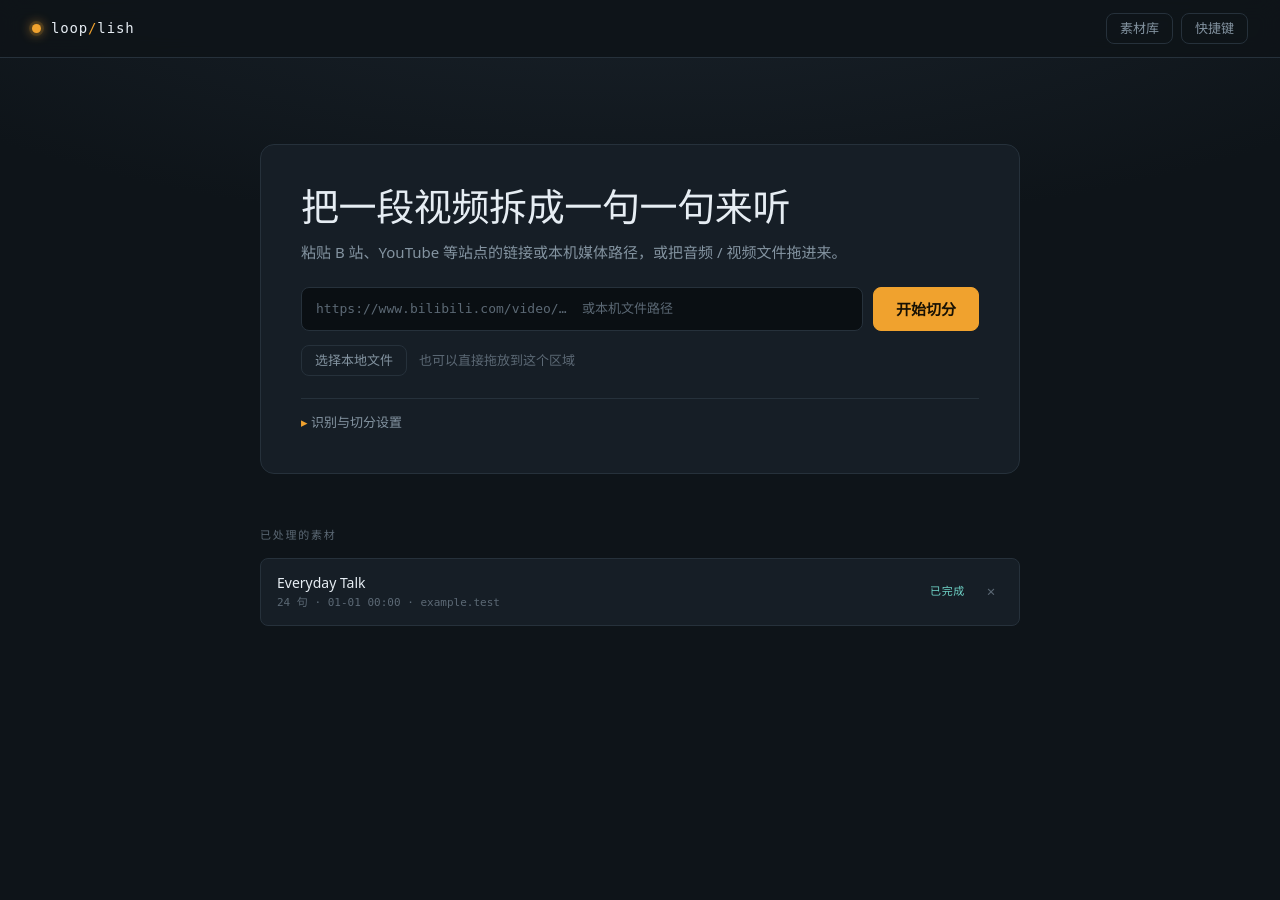
Scenario: job list › deletes only after confirmation and then moves focus to the list heading
The width and height of the screenshot is (1280, 900).
What coordinates should you click on to do the following:
click the button named "删除 Everyday Talk"
I would click on:
 (991, 592)
Its box is [979,580,1003,604].
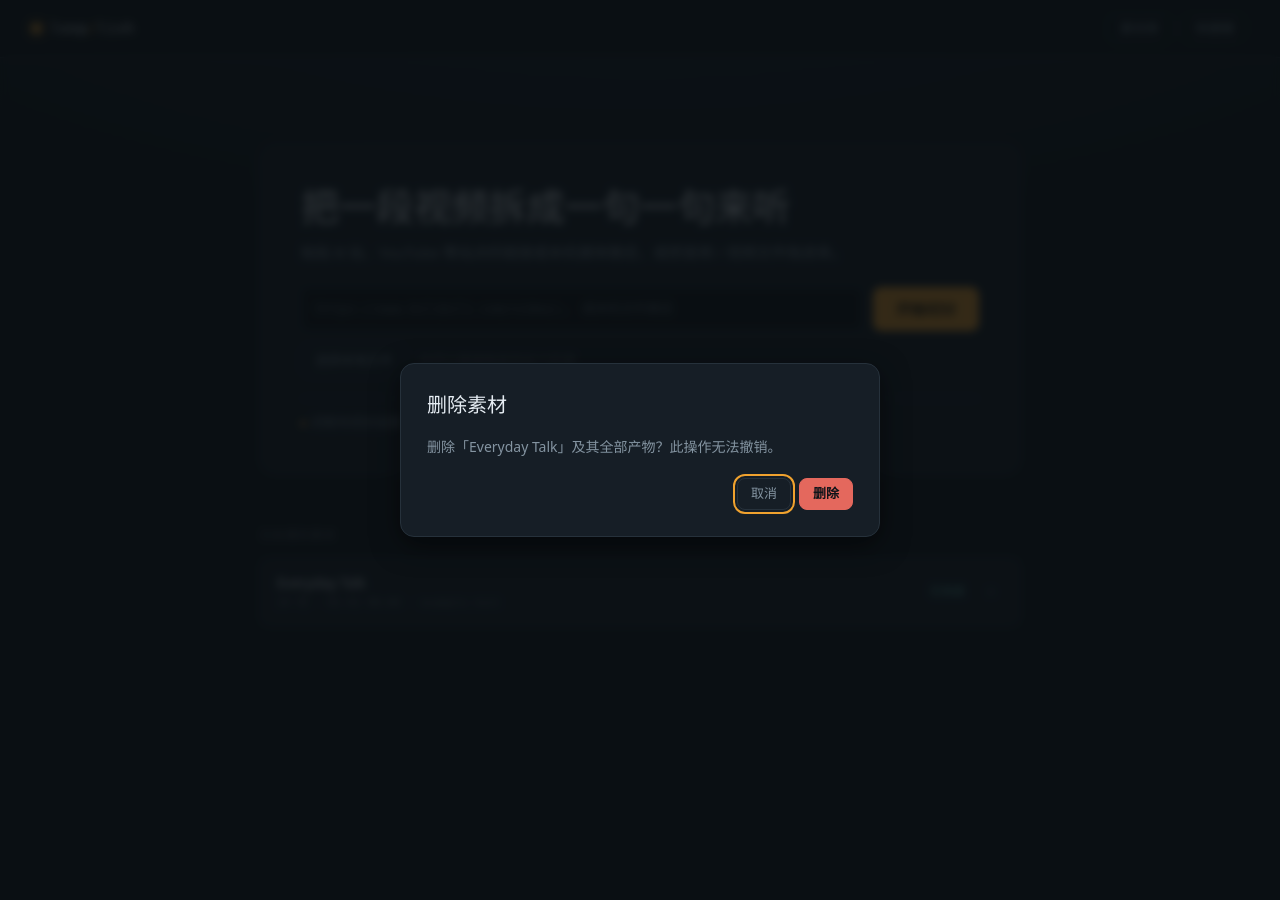
Check: the dialog "删除素材" shows "删除「Everyday Talk」及其全部产物？此操作无法撤销。", box [427,437,782,456]
What coordinates should you click on to do the following:
click the button "取消"
I would click on:
 (764, 494)
Its box is [737,478,791,510].
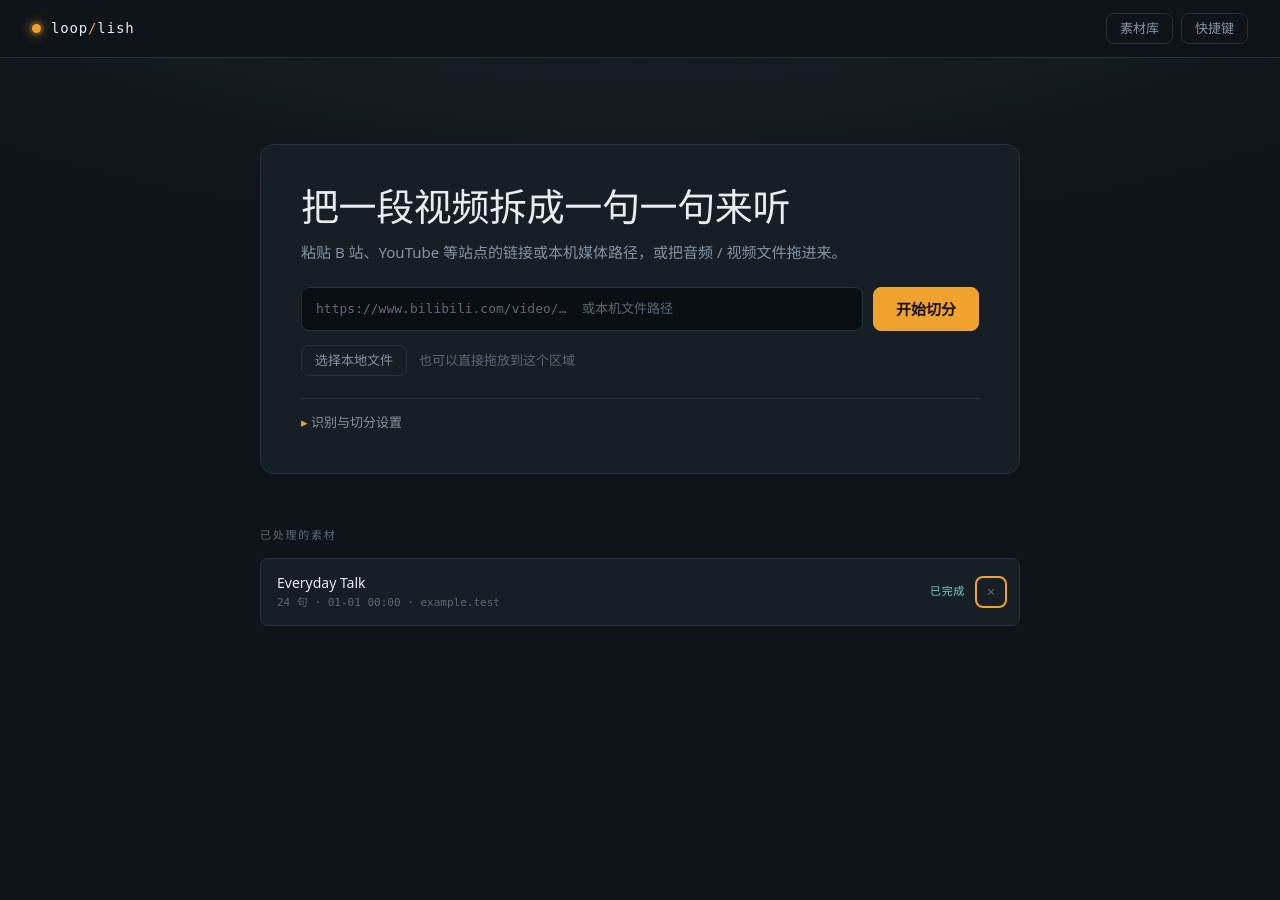
What coordinates should you click on to do the following:
click the button named "删除 Everyday Talk"
I would click on:
 (991, 592)
Its box is [979,580,1003,604].
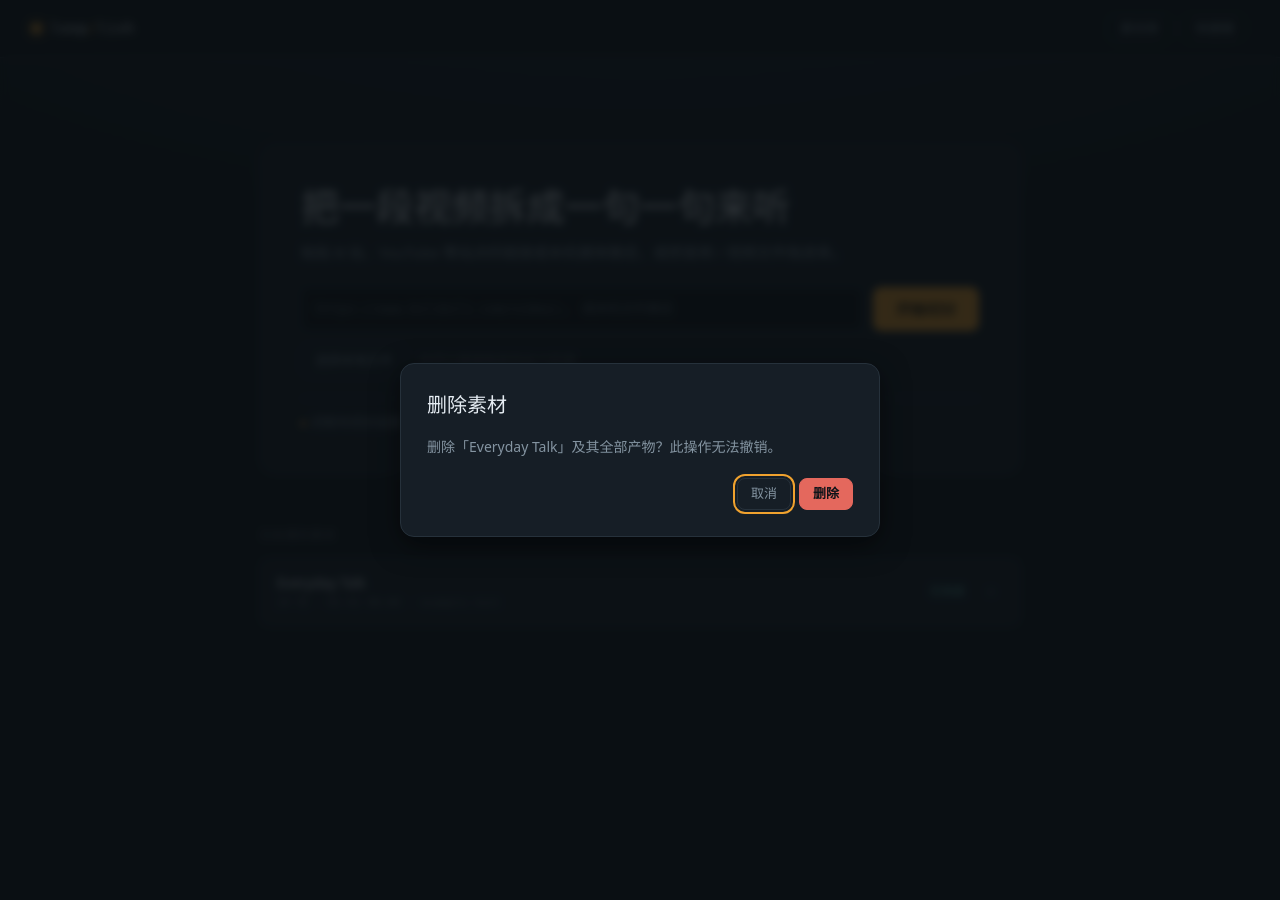
What coordinates should you click on to do the following:
click the button "删除"
I would click on:
 (826, 494)
Its box is [799,478,853,510].
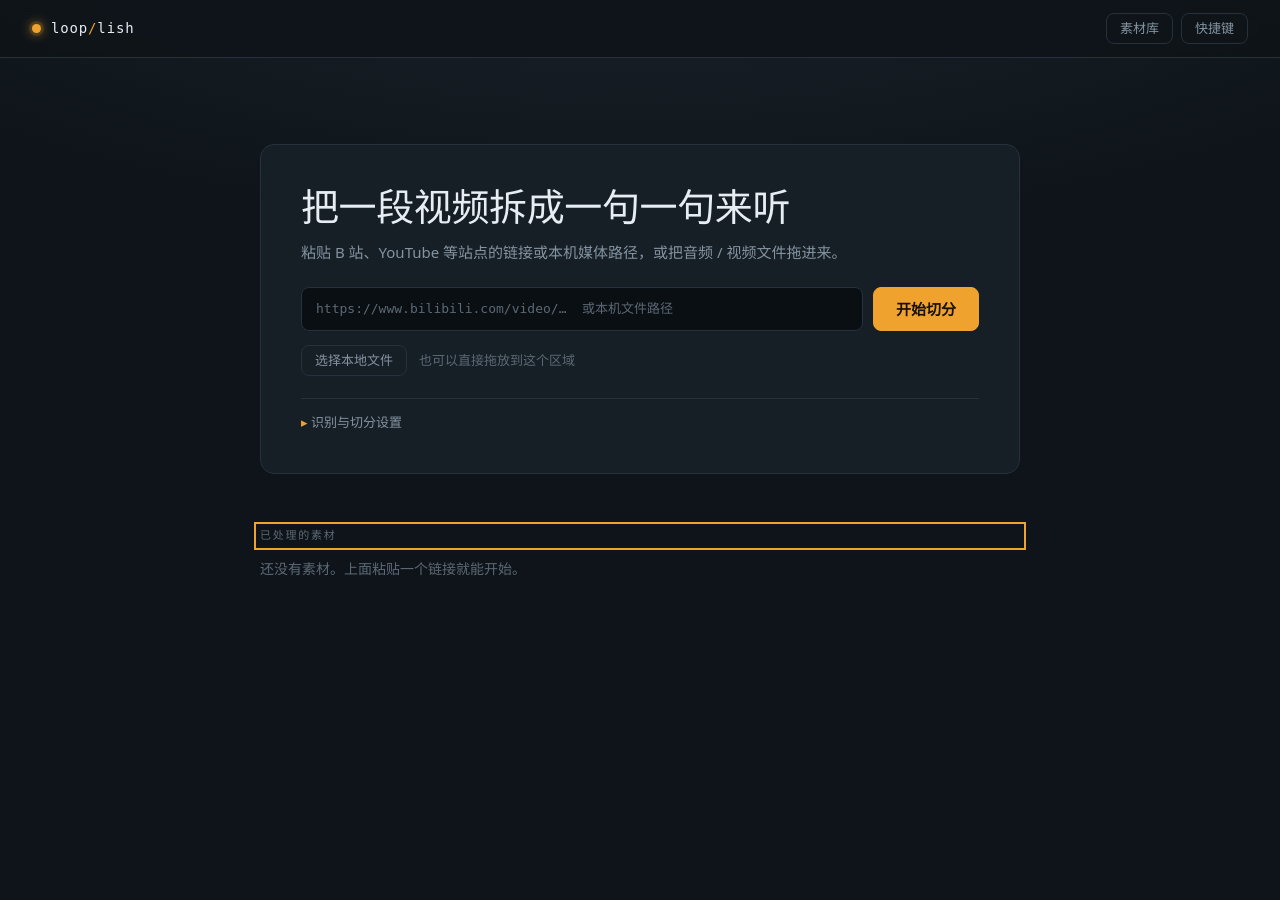
Check: the text "还没有素材。上面粘贴一个链接就能开始。" is shown, box [260,559,526,578]
